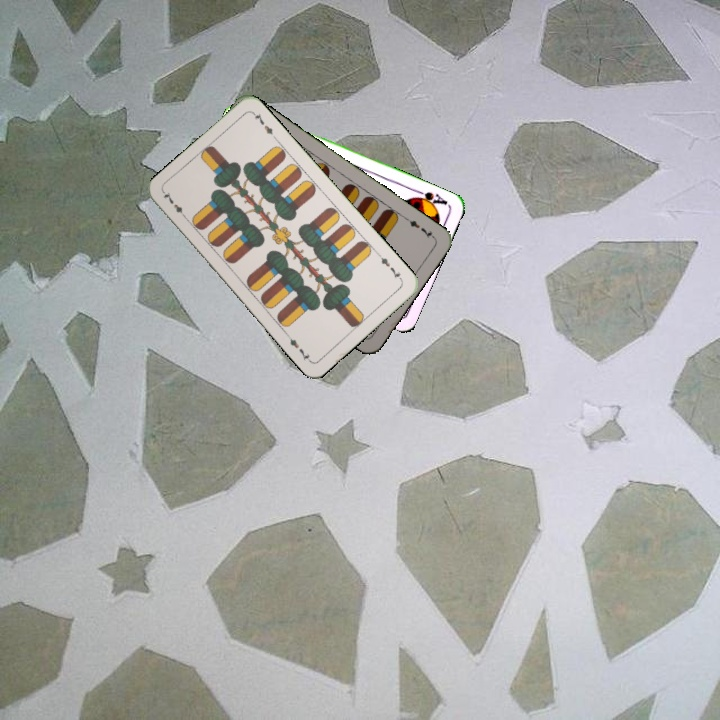E7: (374, 250, 405, 284), (159, 188, 190, 222), (401, 214, 437, 241)
SA: (409, 185, 450, 211)
